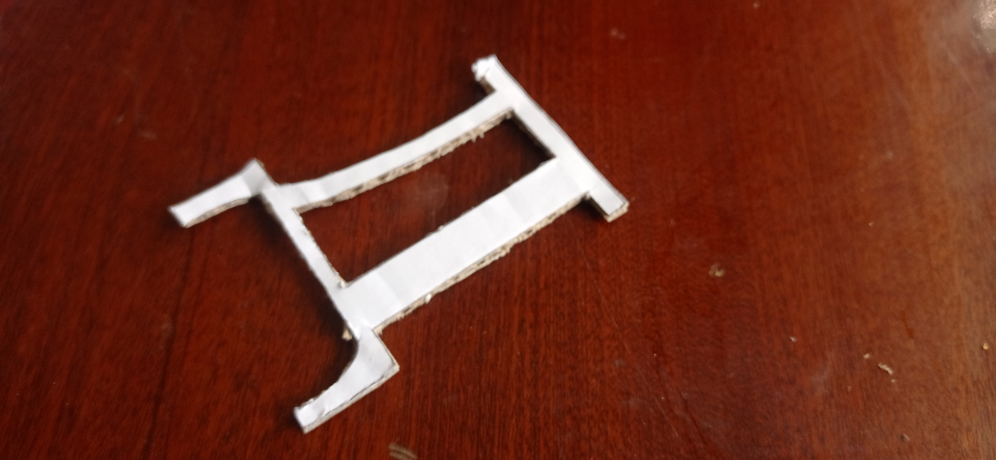d: (171, 55, 628, 432)
